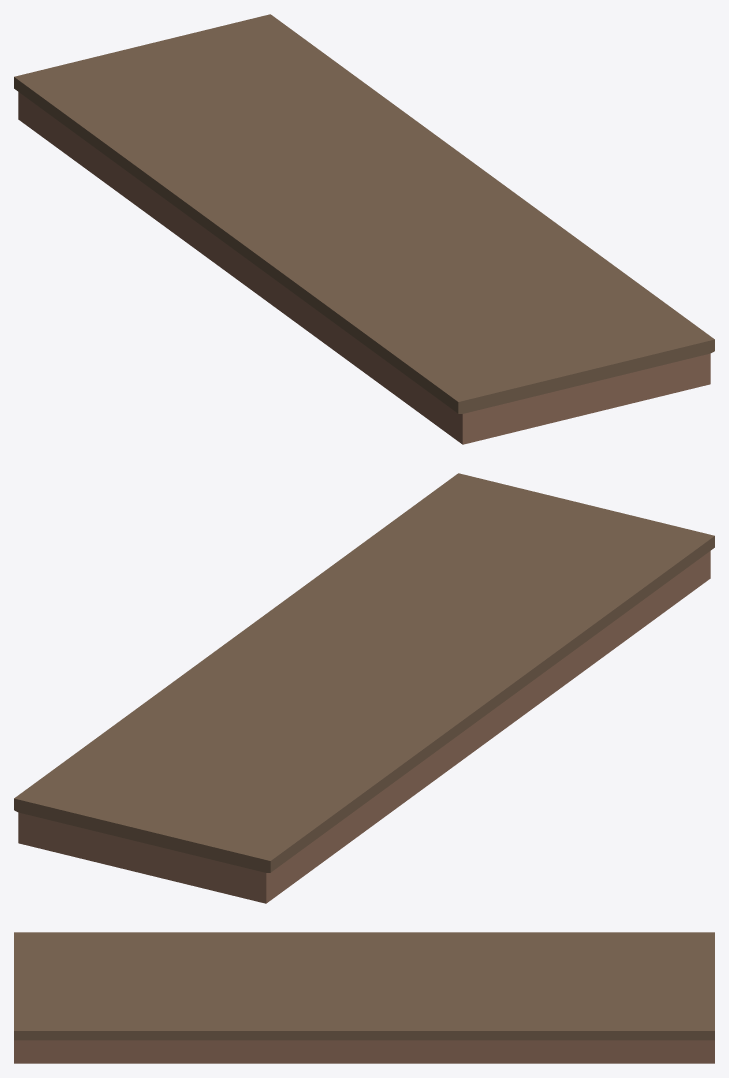
The model's file is Manny Pad.fbx.
3 renders of one model, top to bottom at view 1: azimuth 30°, elevation 25°; view 2: azimuth 150°, elevation 25°; view 3: azimuth 270°, elevation 25°, orthographic. The views are drawn at different scales.
Parts seen in each view (by area): view 1: pCube4; view 2: pCube4; view 3: pCube4.
Boxes of the visible parts, <box> form: pCube4: <box>14,14,714,444</box>; pCube4: <box>14,473,714,903</box>; pCube4: <box>14,932,714,1063</box>.
Size of the model in its own units: 2 by 0.3261 by 6.
